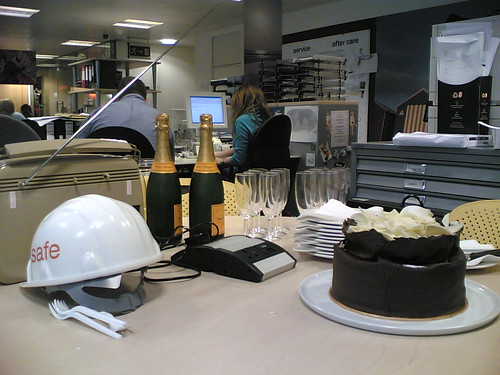hardhat: (18, 192, 165, 327)
